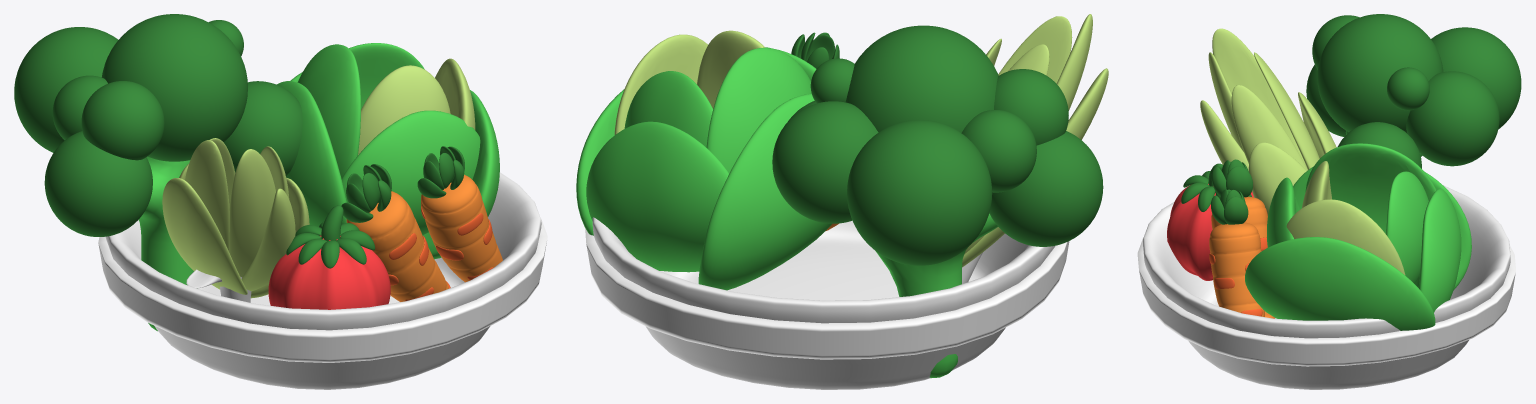
File: vegetables-3d-animated-icon-1075927008718.glb
The picture shows the model from 3 angles, left to right: view 1: azimuth 30°, elevation 25°; view 2: azimuth 150°, elevation 25°; view 3: azimuth 270°, elevation 25°; orthographic projection. The views are drawn at different scales.
Parts seen in each view (by area): view 1: Sphere.007, Cube.005, Sphere.026, Sphere.020, Sphere.004, Cube.006, Cube.001, Cube, Cube.009, Sphere.016, Sphere.009, Cube.007 (+2 smaller); view 2: Sphere.007, Cube.005, Sphere.026, Sphere.020, Cube, Sphere.009; view 3: Sphere.026, Cube.005, Sphere.007, Sphere.020, Cube.006, Sphere.004, Sphere.016, Sphere.009, Cube.009, Cube.001, Cube.007.
Part boxes in pixels (x1,y1,x2,y2): Sphere.007: (14,14,302,236); Cube.005: (98,172,547,389); Sphere.026: (277,43,499,259); Sphere.020: (162,138,309,298); Sphere.004: (268,235,390,309); Cube.006: (421,174,502,282); Cube.001: (346,191,448,301); Cube: (138,156,193,331); Cube.009: (286,205,375,268); Sphere.016: (341,164,391,222); Sphere.009: (417,146,464,198); Cube.007: (421,205,493,280); Sphere.007: (772,25,1103,265); Cube.005: (585,217,1069,389); Sphere.026: (576,30,831,290); Sphere.020: (962,14,1108,267); Cube: (875,213,998,378); Sphere.009: (791,32,846,68); Sphere.026: (1245,143,1471,330); Cube.005: (1137,185,1515,389); Sphere.007: (1306,14,1521,168); Sphere.020: (1200,28,1336,215); Cube.006: (1209,222,1264,316); Sphere.004: (1167,184,1253,280); Sphere.016: (1211,159,1252,197); Sphere.009: (1211,189,1248,224); Cube.009: (1181,163,1251,211); Cube.001: (1211,196,1275,318); Cube.007: (1209,253,1262,316).
Bounding box in the file's own units: 3.1 × 2.07 × 2.68.
